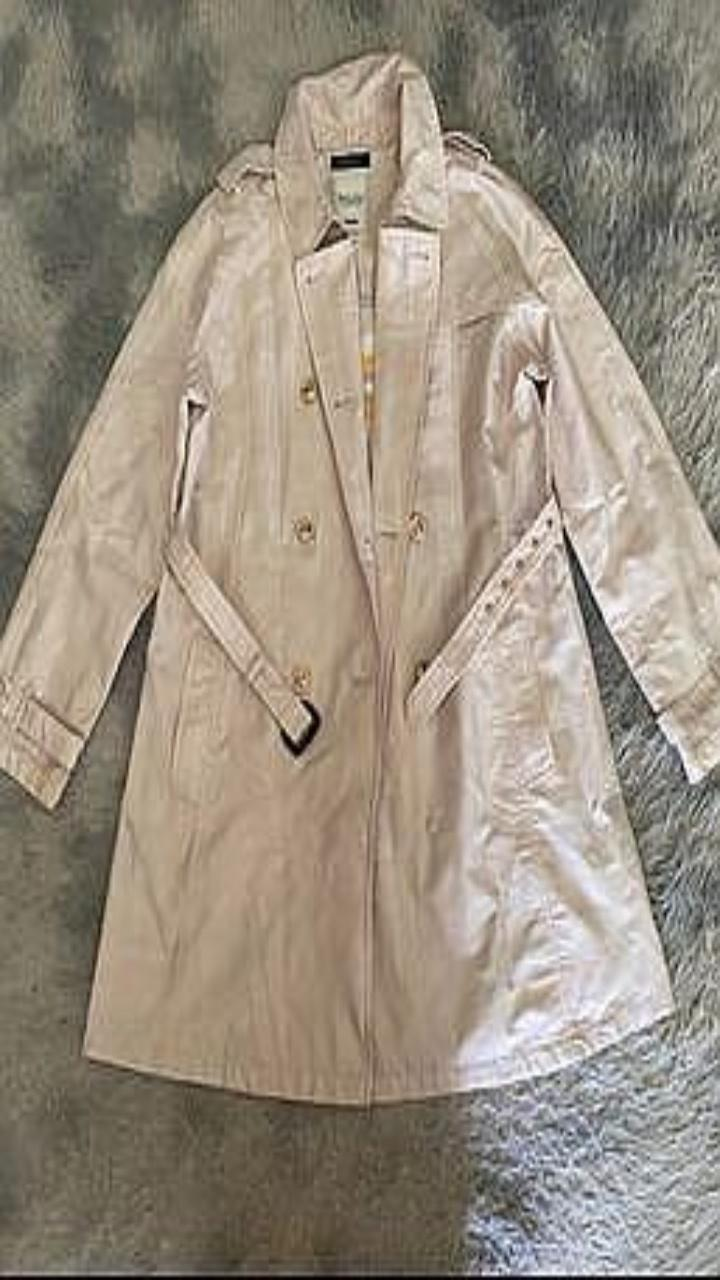Coat: (0, 50, 719, 1104)
